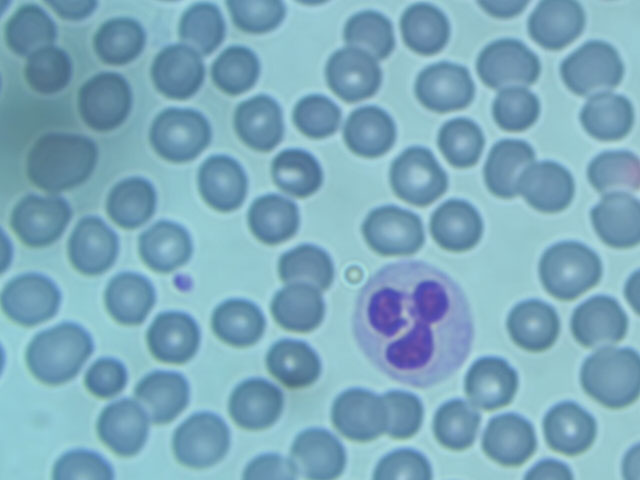Platelets: (167, 265, 204, 301)
RBC: (73, 70, 137, 130), (412, 57, 476, 117), (422, 391, 486, 451), (464, 342, 528, 402), (501, 294, 565, 354), (576, 344, 640, 404), (566, 289, 630, 349), (538, 239, 602, 299), (522, 159, 586, 219), (476, 137, 540, 197), (478, 33, 542, 93), (270, 141, 334, 201), (139, 45, 203, 105), (205, 42, 269, 102), (232, 93, 296, 153), (287, 87, 351, 147), (361, 200, 425, 260), (424, 193, 488, 253), (387, 147, 451, 207), (171, 408, 235, 468), (539, 399, 603, 459), (477, 407, 541, 467), (373, 382, 437, 442), (322, 385, 386, 445), (222, 372, 286, 432), (265, 330, 329, 390), (206, 294, 270, 354), (264, 278, 328, 338), (276, 229, 340, 289), (189, 153, 253, 213), (27, 132, 91, 192), (6, 193, 70, 253), (100, 168, 164, 228), (62, 214, 126, 274), (135, 210, 199, 270), (98, 262, 162, 322), (26, 319, 90, 379), (89, 398, 153, 458), (134, 363, 198, 423), (141, 312, 205, 372), (1, 264, 64, 324), (394, 1, 458, 59), (336, 1, 400, 59), (245, 187, 310, 244), (576, 89, 640, 144), (433, 113, 492, 170), (321, 46, 382, 101), (526, 1, 590, 51), (339, 103, 398, 157), (486, 83, 543, 137), (564, 40, 621, 94), (174, 1, 229, 52), (589, 188, 640, 241), (21, 48, 75, 98), (93, 17, 147, 67), (1, 1, 57, 47), (80, 353, 131, 396)
WBC: (345, 259, 480, 383)
